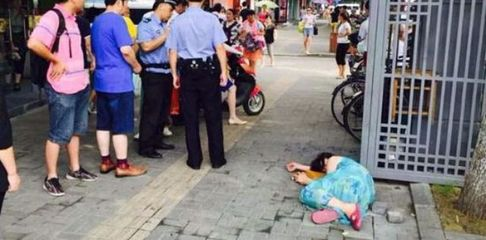10+: (2, 1, 404, 239)
down: (283, 146, 378, 231)
